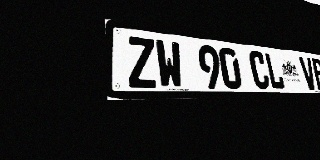0: (218, 47, 242, 89)
9: (197, 44, 223, 89)
B: (310, 58, 320, 90)
C: (248, 50, 271, 89)
L: (264, 52, 285, 89)
V: (299, 56, 318, 90)
W: (155, 39, 184, 88)
Z: (126, 36, 158, 88)
